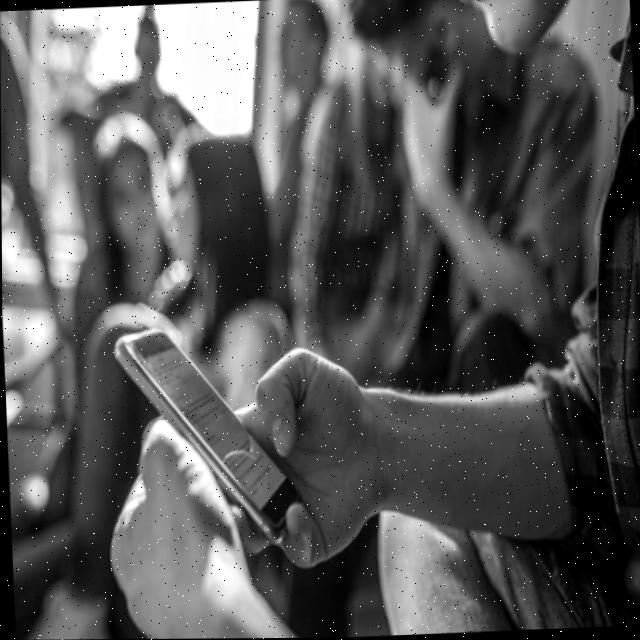phone: (104, 318, 306, 554)
